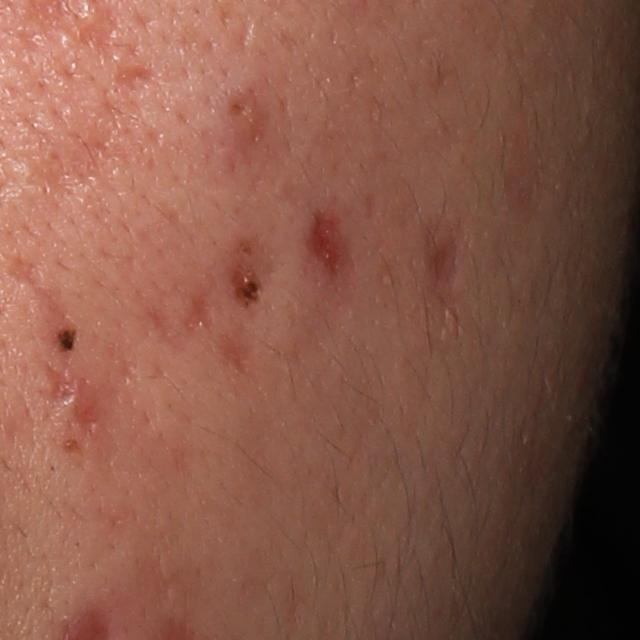atrophic_scar: (29, 119, 128, 192), (303, 190, 361, 296), (0, 246, 63, 315), (417, 224, 463, 291), (108, 61, 155, 93), (180, 292, 213, 333), (47, 369, 73, 408)
nevus: (50, 322, 81, 355), (234, 275, 265, 306)
